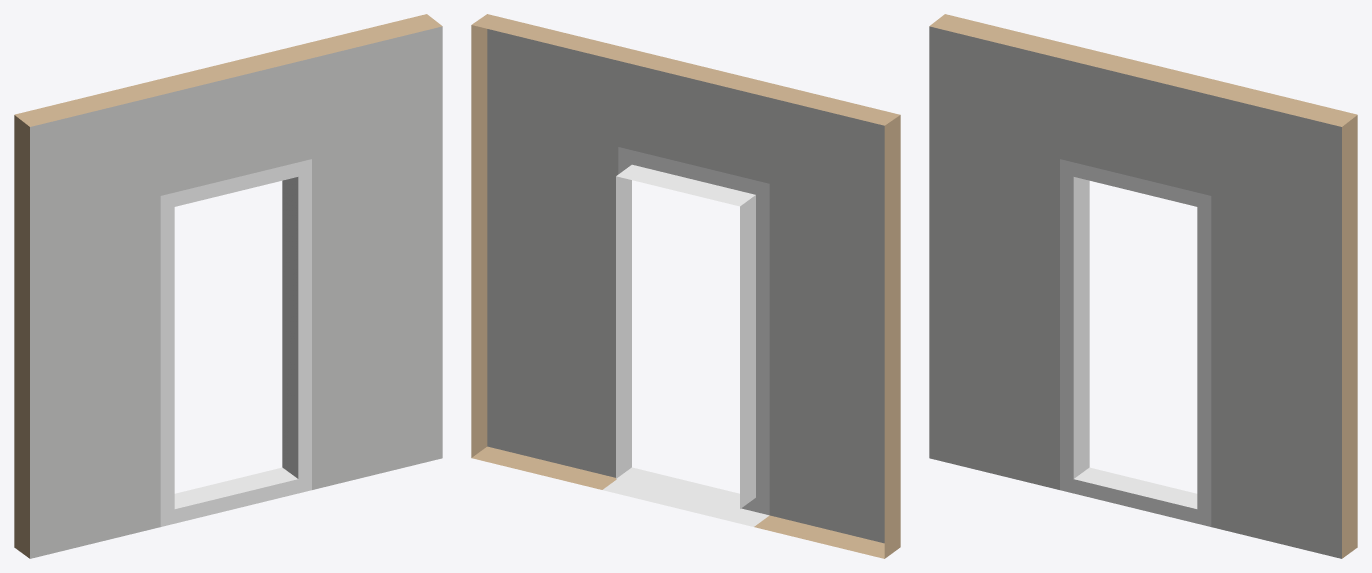
Rendered from buildings_house-wall-door-3x3m.fbx.
3 views of the same model, side by side, from view 1: azimuth 30°, elevation 25°; view 2: azimuth 150°, elevation 25°; view 3: azimuth 330°, elevation 25° (orthographic).
Parts seen in each view (by area): view 1: buildings_house_wall_door_3x3m; view 2: buildings_house_wall_door_3x3m; view 3: buildings_house_wall_door_3x3m.
Part boxes in pixels (<box>): buildings_house_wall_door_3x3m: <box>14,14,442,558</box>; buildings_house_wall_door_3x3m: <box>471,14,900,558</box>; buildings_house_wall_door_3x3m: <box>929,14,1357,558</box>.
Size of the model in its own units: 200 by 200 by 13.31.
